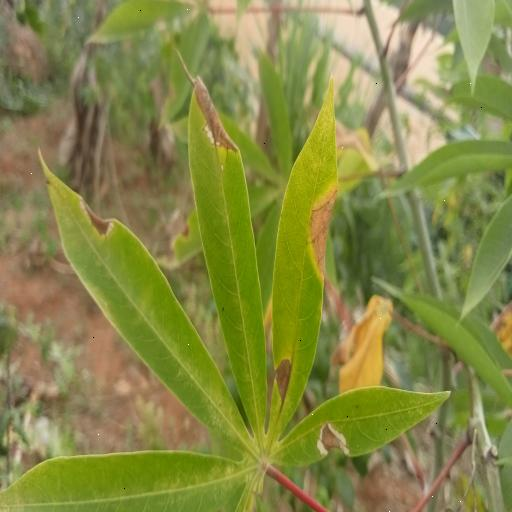Cassava_Root_Rot: (8, 77, 445, 512)
